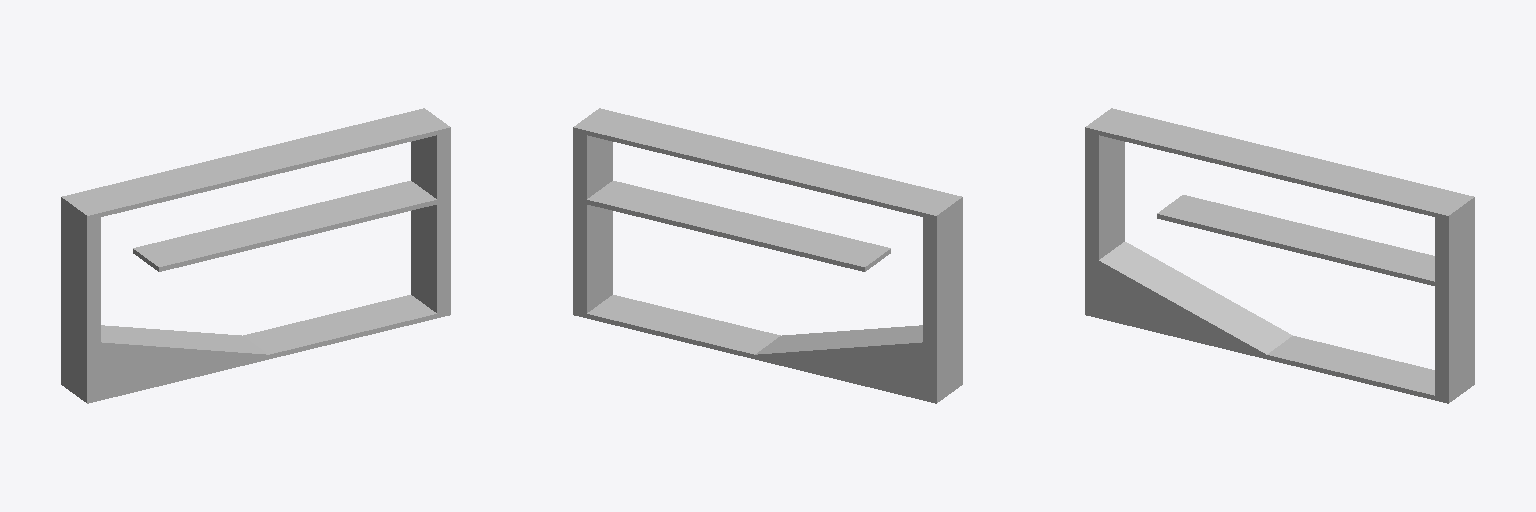
The model's file is Test Level.obj.
The picture shows the model from 3 angles: view 1: azimuth 30°, elevation 25°; view 2: azimuth 150°, elevation 25°; view 3: azimuth 330°, elevation 25°; orthographic projection.
Visible parts, largest first — view 1: Cube_Cube.001; view 2: Cube_Cube.001; view 3: Cube_Cube.001.
Part boxes in pixels (x1,y1,x2,y2): Cube_Cube.001: (61, 108, 450, 403); Cube_Cube.001: (573, 108, 962, 403); Cube_Cube.001: (1085, 108, 1474, 403).
Size of the model in its own units: 16 by 7.9 by 2.